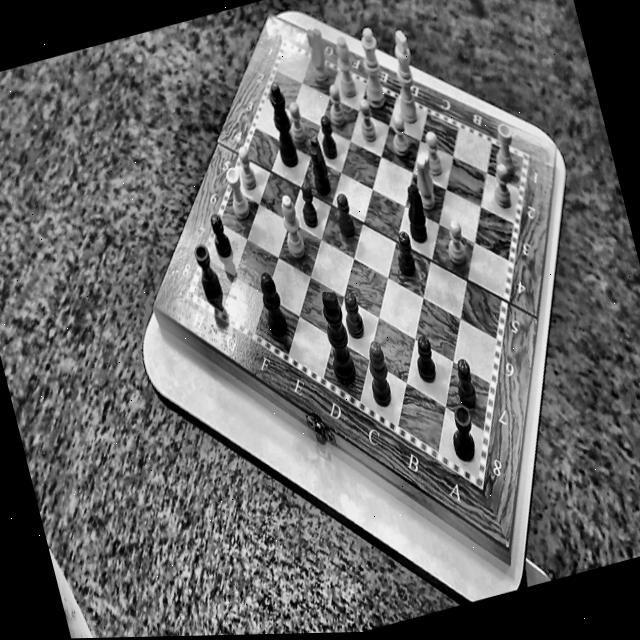chessboard: (192, 43, 522, 475)
